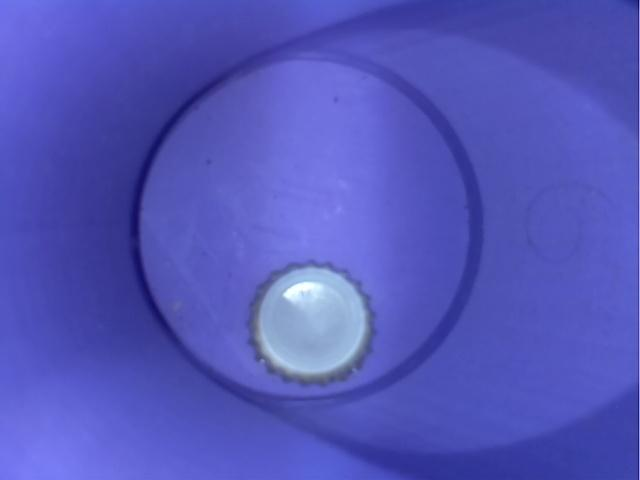capsule: (250, 264, 378, 393)
